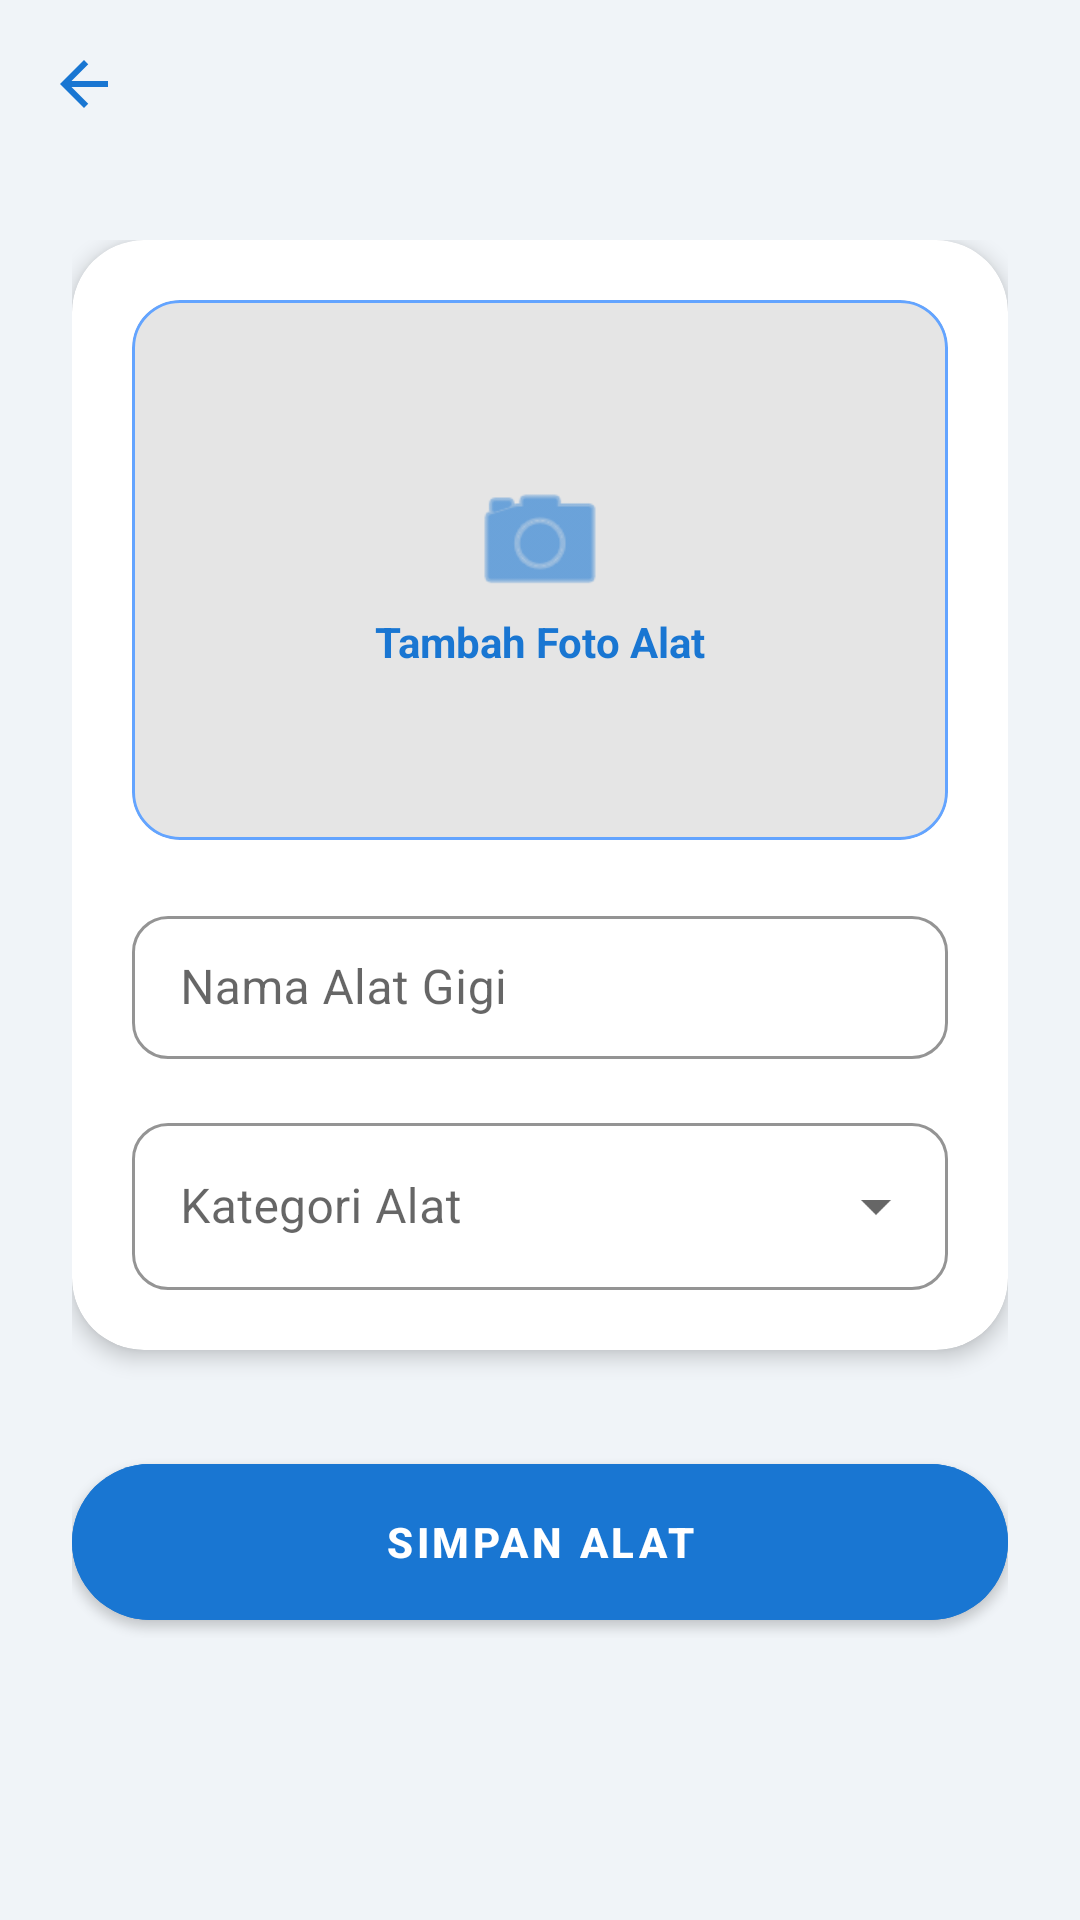

Icon click points for this 1080×1920 phone screenshot, format [x,y]:
camera: [540,538]
